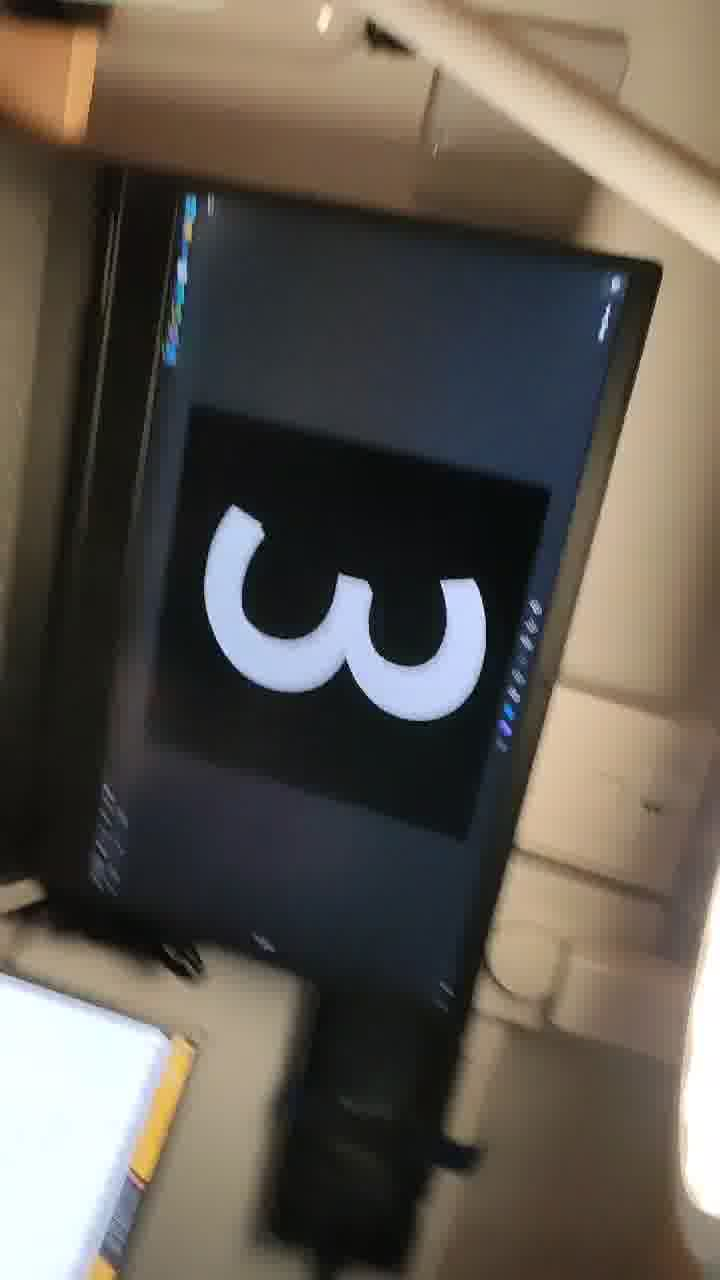three: (189, 473, 584, 829)
